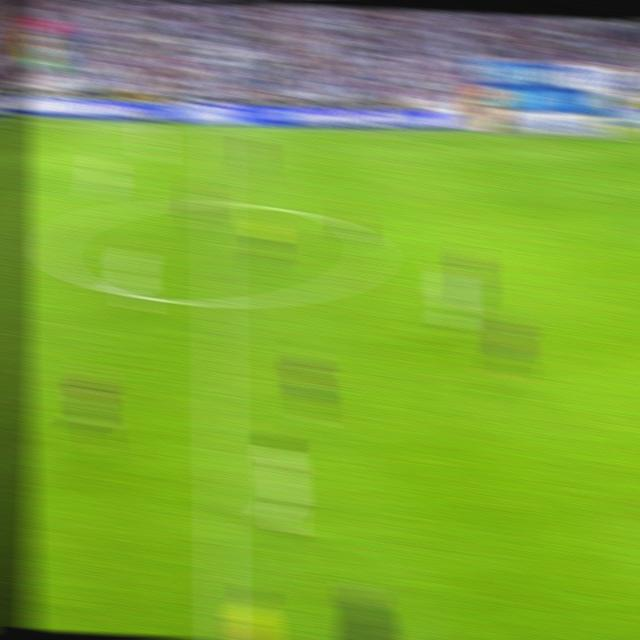halfcircle_bottom: (204, 287, 232, 315)
halfcircle_top: (203, 189, 229, 214)
midline_top_intersection: (205, 123, 226, 139)
